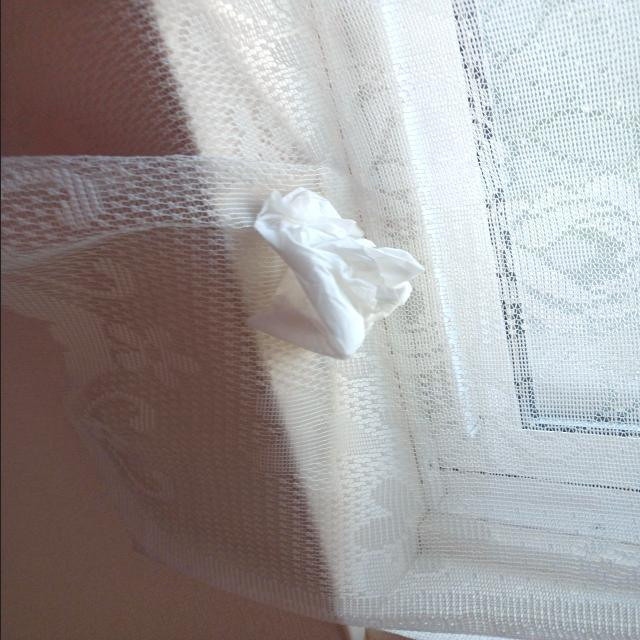Paper: (257, 180, 421, 379)
